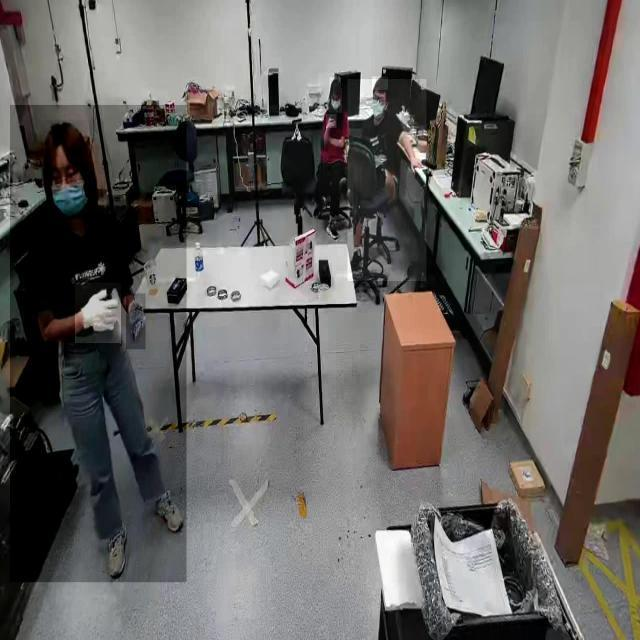boots: (151, 487, 184, 541), (102, 514, 128, 580)
gloves: (75, 282, 121, 344), (126, 294, 146, 349)
